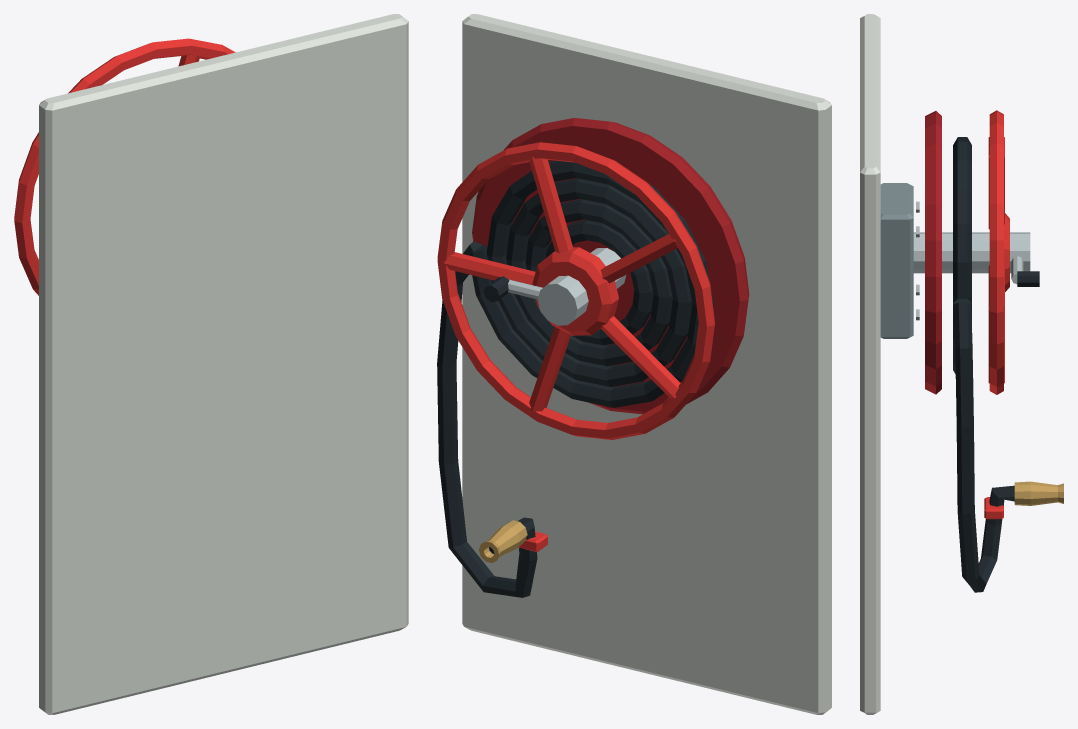
Rendered from wall-hose-reel.glb.
3 views of the same model, side by side, from view 1: azimuth 30°, elevation 25°; view 2: azimuth 150°, elevation 25°; view 3: azimuth 270°, elevation 25° (orthographic). The views are drawn at different scales.
Parts seen in each view (by area): view 1: wall-hose-reel; view 2: wall-hose-reel; view 3: wall-hose-reel.
Part boxes in pixels (<box>): wall-hose-reel: <box>14,14,408,714</box>; wall-hose-reel: <box>437,14,831,714</box>; wall-hose-reel: <box>860,14,1063,714</box>.
Size of the model in its own units: 0.82 by 1.32 by 0.4465.
Materials: 1 (1 with a texture image).
